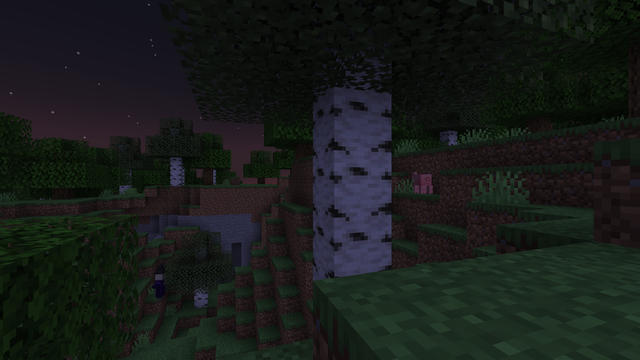cochons: (408, 173, 430, 193)
sorcieres: (154, 270, 165, 301)
